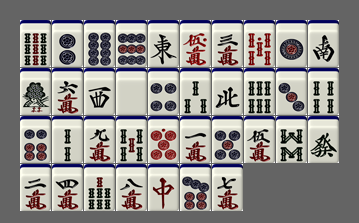0m: (180, 20, 211, 67)
0p: (148, 116, 179, 163)
0s: (244, 20, 275, 67)
1m: (180, 116, 211, 163)
1p: (276, 20, 307, 67)
1s: (20, 68, 51, 115)
1z: (148, 20, 179, 67)
2m: (20, 164, 51, 211)
2p: (52, 20, 83, 67)
2s: (52, 116, 83, 163)
2z: (308, 20, 339, 67)
3m: (212, 20, 243, 67)
3p: (276, 68, 307, 115)
3s: (180, 68, 211, 115)
3z: (84, 68, 115, 115)
4m: (52, 164, 83, 211)
4p: (148, 68, 179, 115)
4s: (308, 68, 339, 115)
4z: (212, 68, 243, 115)
5m: (244, 116, 275, 163)
5p: (212, 116, 243, 163)
5s: (116, 116, 147, 163)
5z: (116, 68, 147, 115)
6m: (52, 68, 83, 115)
6p: (20, 116, 51, 163)
6s: (244, 68, 275, 115)
6z: (308, 116, 339, 163)
7m: (212, 164, 243, 211)
7p: (180, 164, 211, 211)
7s: (84, 164, 115, 211)
7z: (148, 164, 179, 211)
8m: (116, 164, 147, 211)
8p: (84, 20, 115, 67)
8s: (276, 116, 307, 163)
9m: (84, 116, 115, 163)
9p: (116, 20, 147, 67)
9s: (20, 20, 51, 67)
